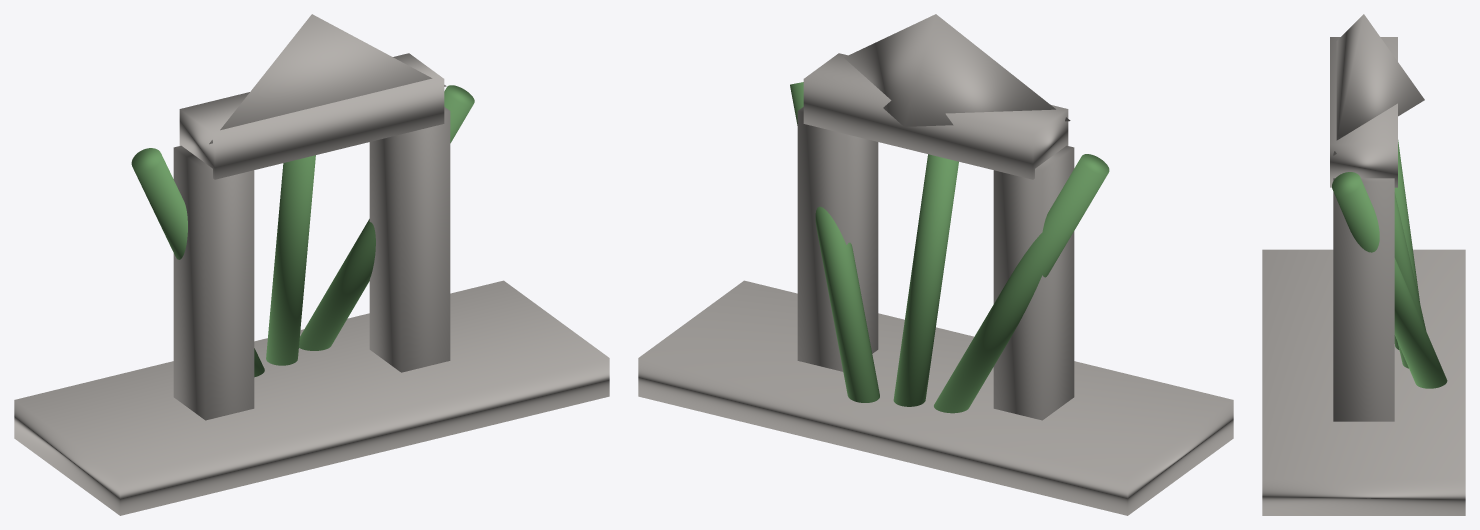
The model's file is structure_lyth_ancient_ruin.glb.
The picture shows the model from 3 angles, left to right: view 1: azimuth 30°, elevation 25°; view 2: azimuth 150°, elevation 25°; view 3: azimuth 270°, elevation 25°; orthographic projection. The views are drawn at different scales.
Parts seen in each view (by area): view 1: Lyth_Foundation, Pillar_Left, Pillar_Right, Gothic_Arch_Lintel, Broken_Pediment, Invading_Root_2, Invading_Root_3, Invading_Root_1; view 2: Lyth_Foundation, Pillar_Left, Pillar_Right, Gothic_Arch_Lintel, Broken_Pediment, Invading_Root_1, Invading_Root_2, Invading_Root_3; view 3: Lyth_Foundation, Pillar_Right, Broken_Pediment, Invading_Root_3, Gothic_Arch_Lintel, Invading_Root_2, Invading_Root_1.
Boxes of the visible parts, bbox=[...] form: Lyth_Foundation: bbox=[14, 280, 609, 515]; Pillar_Left: bbox=[173, 145, 254, 420]; Pillar_Right: bbox=[369, 107, 450, 372]; Gothic_Arch_Lintel: bbox=[179, 53, 444, 179]; Broken_Pediment: bbox=[209, 14, 446, 144]; Invading_Root_2: bbox=[266, 155, 315, 365]; Invading_Root_3: bbox=[299, 85, 474, 350]; Invading_Root_1: bbox=[131, 148, 264, 377]; Lyth_Foundation: bbox=[638, 280, 1233, 515]; Pillar_Left: bbox=[993, 145, 1074, 420]; Pillar_Right: bbox=[797, 107, 878, 371]; Gothic_Arch_Lintel: bbox=[803, 53, 1068, 179]; Broken_Pediment: bbox=[844, 14, 1070, 126]; Invading_Root_1: bbox=[934, 154, 1109, 413]; Invading_Root_2: bbox=[893, 154, 958, 406]; Invading_Root_3: bbox=[790, 82, 879, 402]; Lyth_Foundation: bbox=[1262, 249, 1465, 515]; Pillar_Right: bbox=[1333, 178, 1394, 421]; Broken_Pediment: bbox=[1333, 14, 1424, 155]; Invading_Root_3: bbox=[1332, 172, 1447, 388]; Gothic_Arch_Lintel: bbox=[1330, 37, 1397, 187]; Invading_Root_2: bbox=[1394, 192, 1426, 368]; Invading_Root_1: bbox=[1394, 140, 1420, 349].
Size of the model in its own units: 16 by 12.6 by 6.
